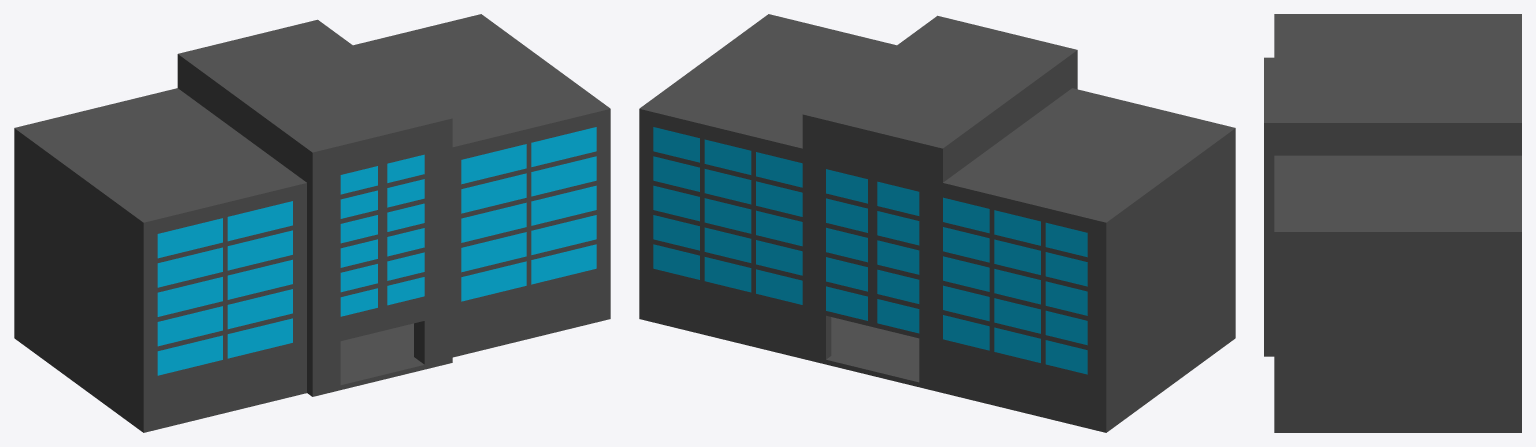
Rendered from wide-tower-1-open.obj.
The picture shows the model from 3 angles, left to right: view 1: azimuth 30°, elevation 25°; view 2: azimuth 150°, elevation 25°; view 3: azimuth 270°, elevation 25°; orthographic projection. The views are drawn at different scales.
Size of the model in its own units: 100 by 50 by 50.
1 material, 1 textured.
